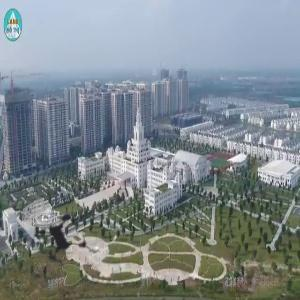drone: (2, 183, 120, 300)
